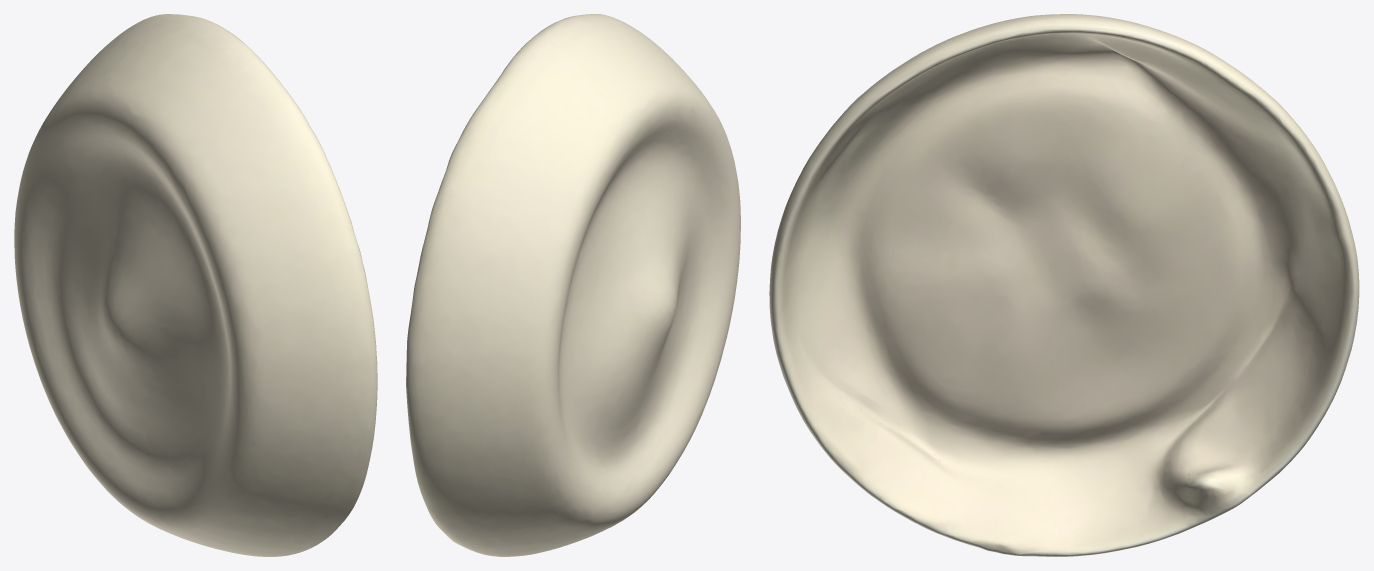
File: plate.glb
3 renders of one model, left to right at view 1: azimuth 30°, elevation 25°; view 2: azimuth 150°, elevation 25°; view 3: azimuth 270°, elevation 25°, orthographic. The views are drawn at different scales.
Parts seen in each view (by area): view 1: tripo_node_2f7bc431-ac4c-4c82-9c2c-e3f5e32618ad; view 2: tripo_node_2f7bc431-ac4c-4c82-9c2c-e3f5e32618ad; view 3: tripo_node_2f7bc431-ac4c-4c82-9c2c-e3f5e32618ad.
Boxes of the visible parts, <box> form: tripo_node_2f7bc431-ac4c-4c82-9c2c-e3f5e32618ad: <box>14,14,377,556</box>; tripo_node_2f7bc431-ac4c-4c82-9c2c-e3f5e32618ad: <box>406,14,740,556</box>; tripo_node_2f7bc431-ac4c-4c82-9c2c-e3f5e32618ad: <box>769,14,1359,556</box>.
Size of the model in its own units: 0.2841 by 1 by 0.9986.
Materials: 1 (1 with a texture image).
